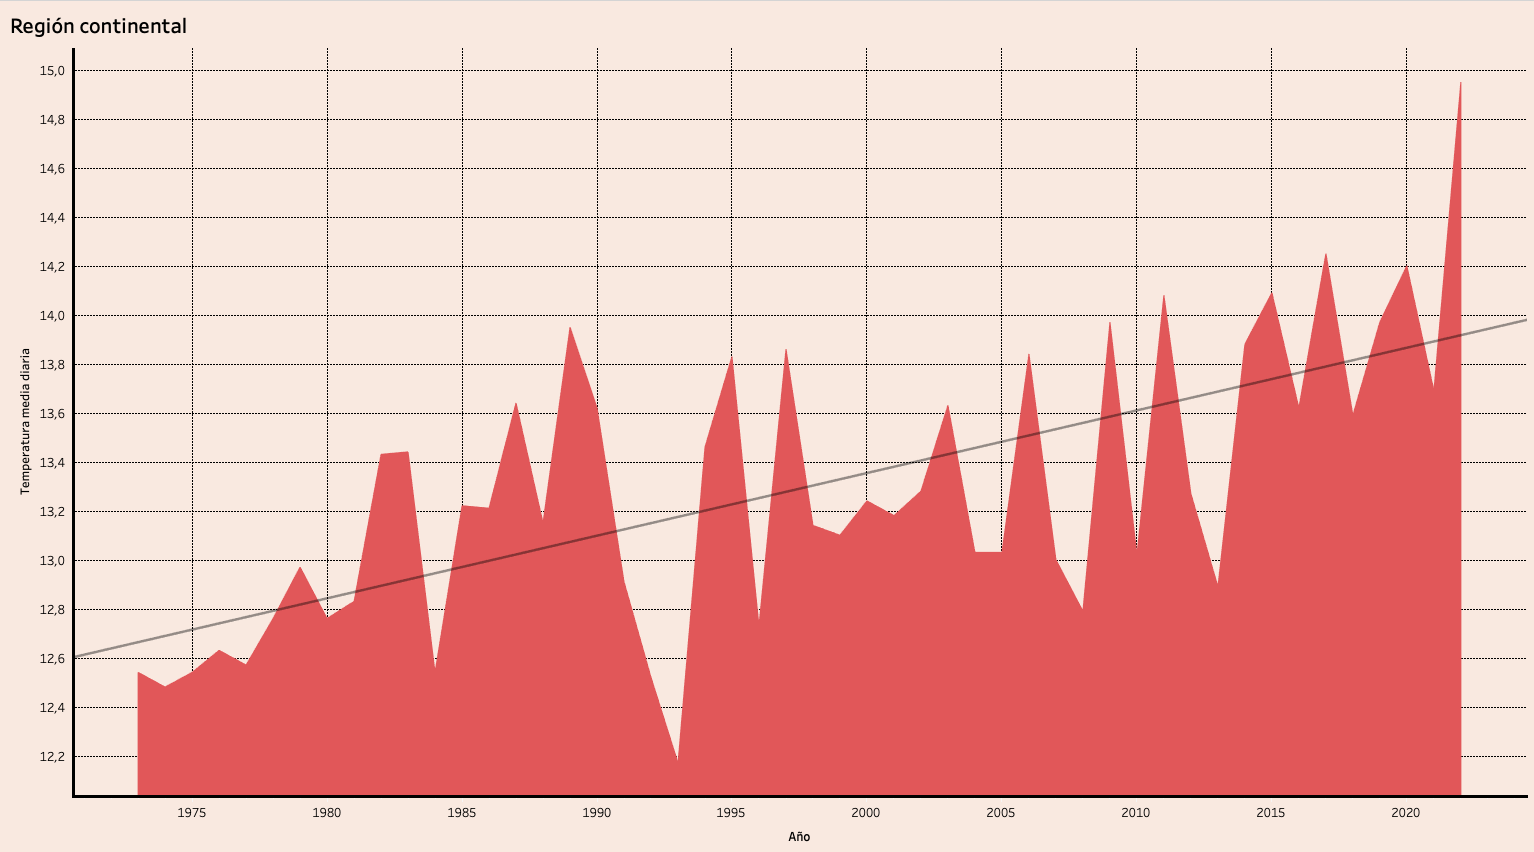

This screenshot's page, from the dashboard's own definition file:
{"tool":"tableau","page":{"name":"Dashboard 7","canvas":[800,600],"ordinal":8},"visuals":[{"type":"worksheet","title":"Hoja 11","mark":"Area","rows":["Indicador"],"cols":["Fecha"],"box":[8,8,784,584]}]}

Visuals, with their boxes on the page's 800x600 design canvas (x1, y1, x2, y2). These are canvas units, not pixel positions in the 1534x852 screenshot, which may show the page scaled, cropped or inside an application window:
"Hoja 11" worksheet (Area marks): 8 8 792 592
